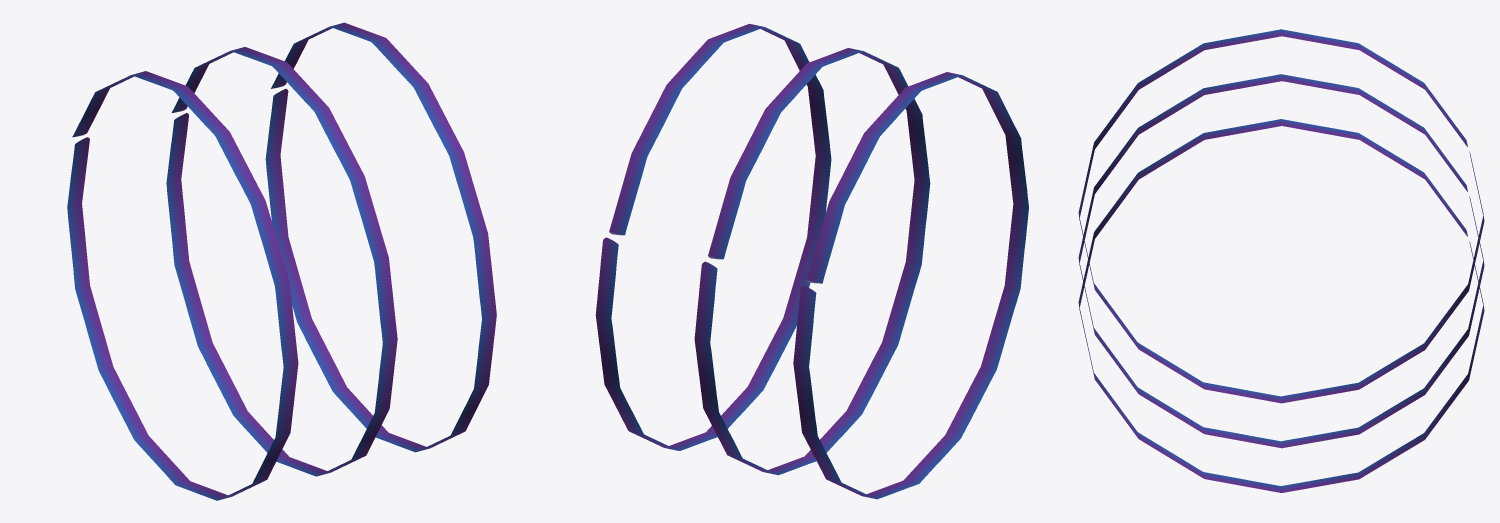
Rendered from PipeFX.fbx.
3 views of the same model, side by side, from view 1: azimuth 30°, elevation 25°; view 2: azimuth 150°, elevation 25°; view 3: azimuth 270°, elevation 25° (orthographic). The views are drawn at different scales.
Visible parts, largest first — view 1: PipeFX; view 2: PipeFX; view 3: PipeFX.
Boxes of the visible parts, box(x1,y1,x2,y2) form: PipeFX: box(67, 22, 496, 500); PipeFX: box(595, 23, 1028, 499); PipeFX: box(1078, 29, 1484, 492).
Size of the model in its own units: 55.22 by 65.99 by 65.36.
1 material, 1 textured.
